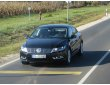License Plates: (31, 54, 45, 57)
